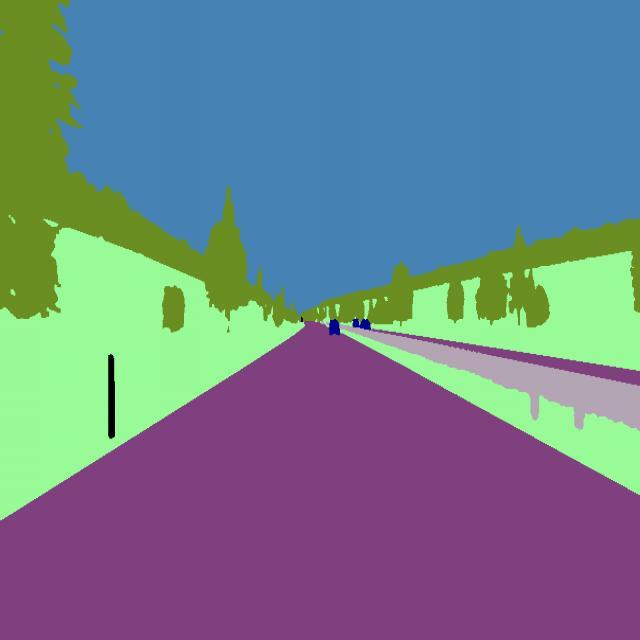safe: (327, 316, 342, 340), (360, 314, 372, 338), (351, 312, 358, 328)
